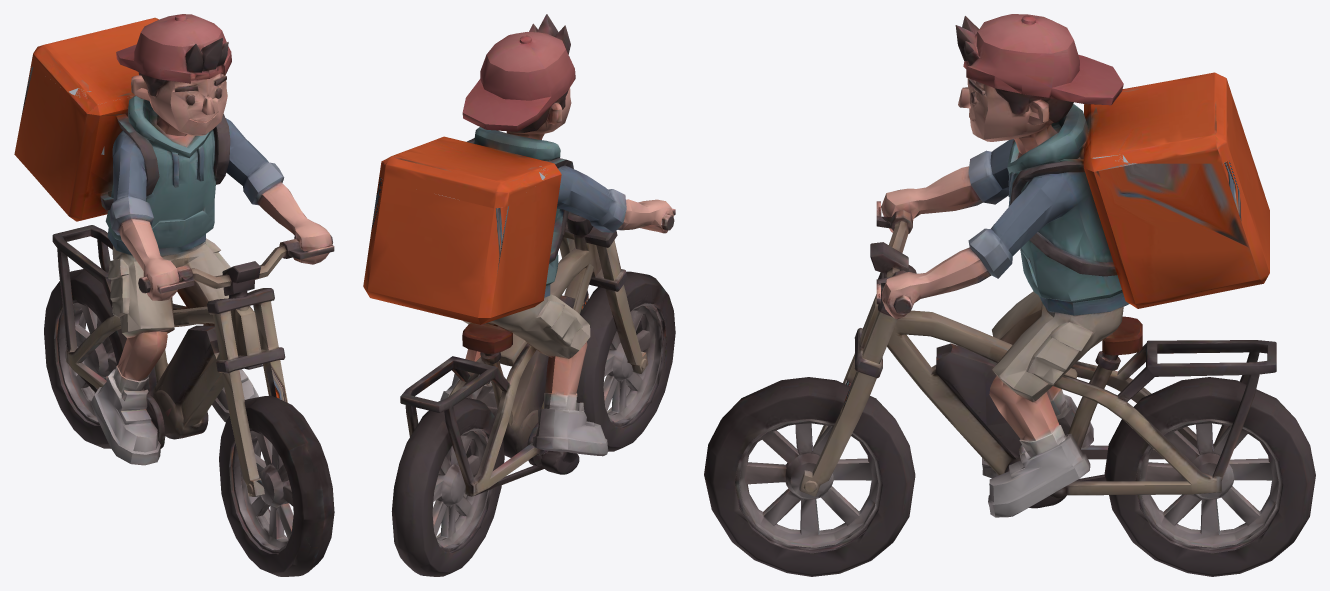
The model's file is courier.glb.
The picture shows the model from 3 angles, left to right: view 1: azimuth 30°, elevation 25°; view 2: azimuth 150°, elevation 25°; view 3: azimuth 270°, elevation 25°; orthographic projection. The views are drawn at different scales.
Visible parts, largest first — view 1: Courier, WheelFront, WheelRear, Lid; view 2: Courier, WheelRear, WheelFront, Lid; view 3: Courier, WheelFront, WheelRear, Lid.
Part boxes in pixels (x1=…): Courier: x1=14, y1=14, x2=334, y2=496; WheelFront: x1=219, y1=396, x2=334, y2=576; WheelRear: x1=44, y1=269, x2=156, y2=448; Lid: x1=31, y1=17, x2=158, y2=104; Courier: x1=363, y1=14, x2=675, y2=496; WheelRear: x1=391, y1=398, x2=504, y2=576; WheelFront: x1=576, y1=271, x2=675, y2=451; Lid: x1=379, y1=136, x2=554, y2=208; Courier: x1=799, y1=14, x2=1276, y2=517; WheelFront: x1=704, y1=377, x2=915, y2=576; WheelRear: x1=1104, y1=377, x2=1315, y2=576; Lid: x1=1090, y1=72, x2=1232, y2=163.
Size of the model in its own units: 0.3787 by 0.9385 by 0.9348.
Materials: 2 (1 with a texture image).
